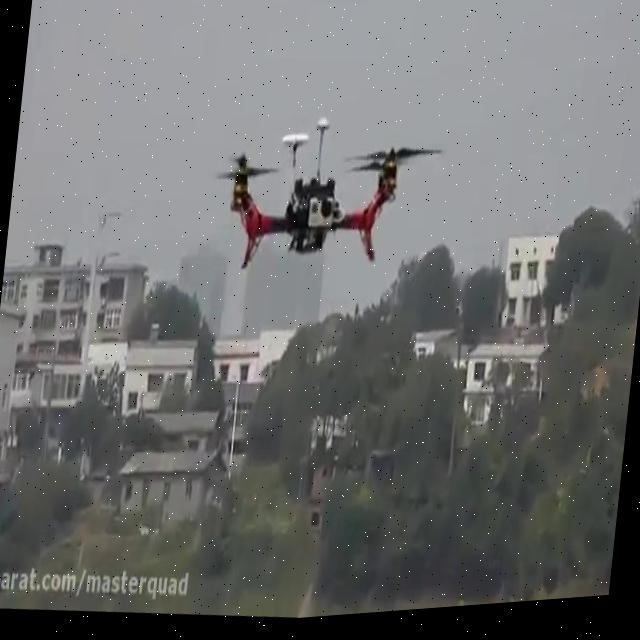drone: (200, 99, 446, 298)
